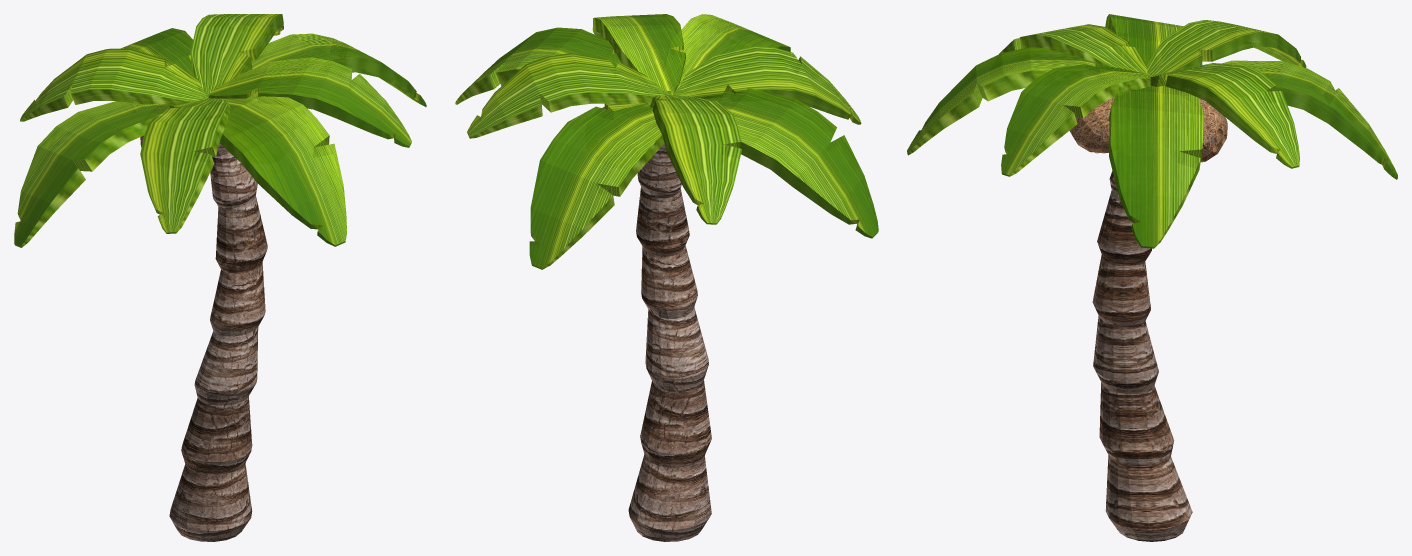
The model's file is Palmeira.1_LOD.fbx.
The picture shows the model from 3 angles, left to right: view 1: azimuth 30°, elevation 25°; view 2: azimuth 150°, elevation 25°; view 3: azimuth 270°, elevation 25°; orthographic projection. The views are drawn at different scales.
Parts seen in each view (by area): view 1: Tronco_LOD0; view 2: Tronco_LOD0; view 3: Tronco_LOD0.
Boxes of the visible parts, x1,y1,x2,y2 form: Tronco_LOD0: (14, 14, 426, 541); Tronco_LOD0: (455, 14, 878, 541); Tronco_LOD0: (907, 14, 1397, 541).
Size of what is drawn, in the model's own units: 1444 by 1571 by 1435.
Materials: 3 (3 with a texture image).
